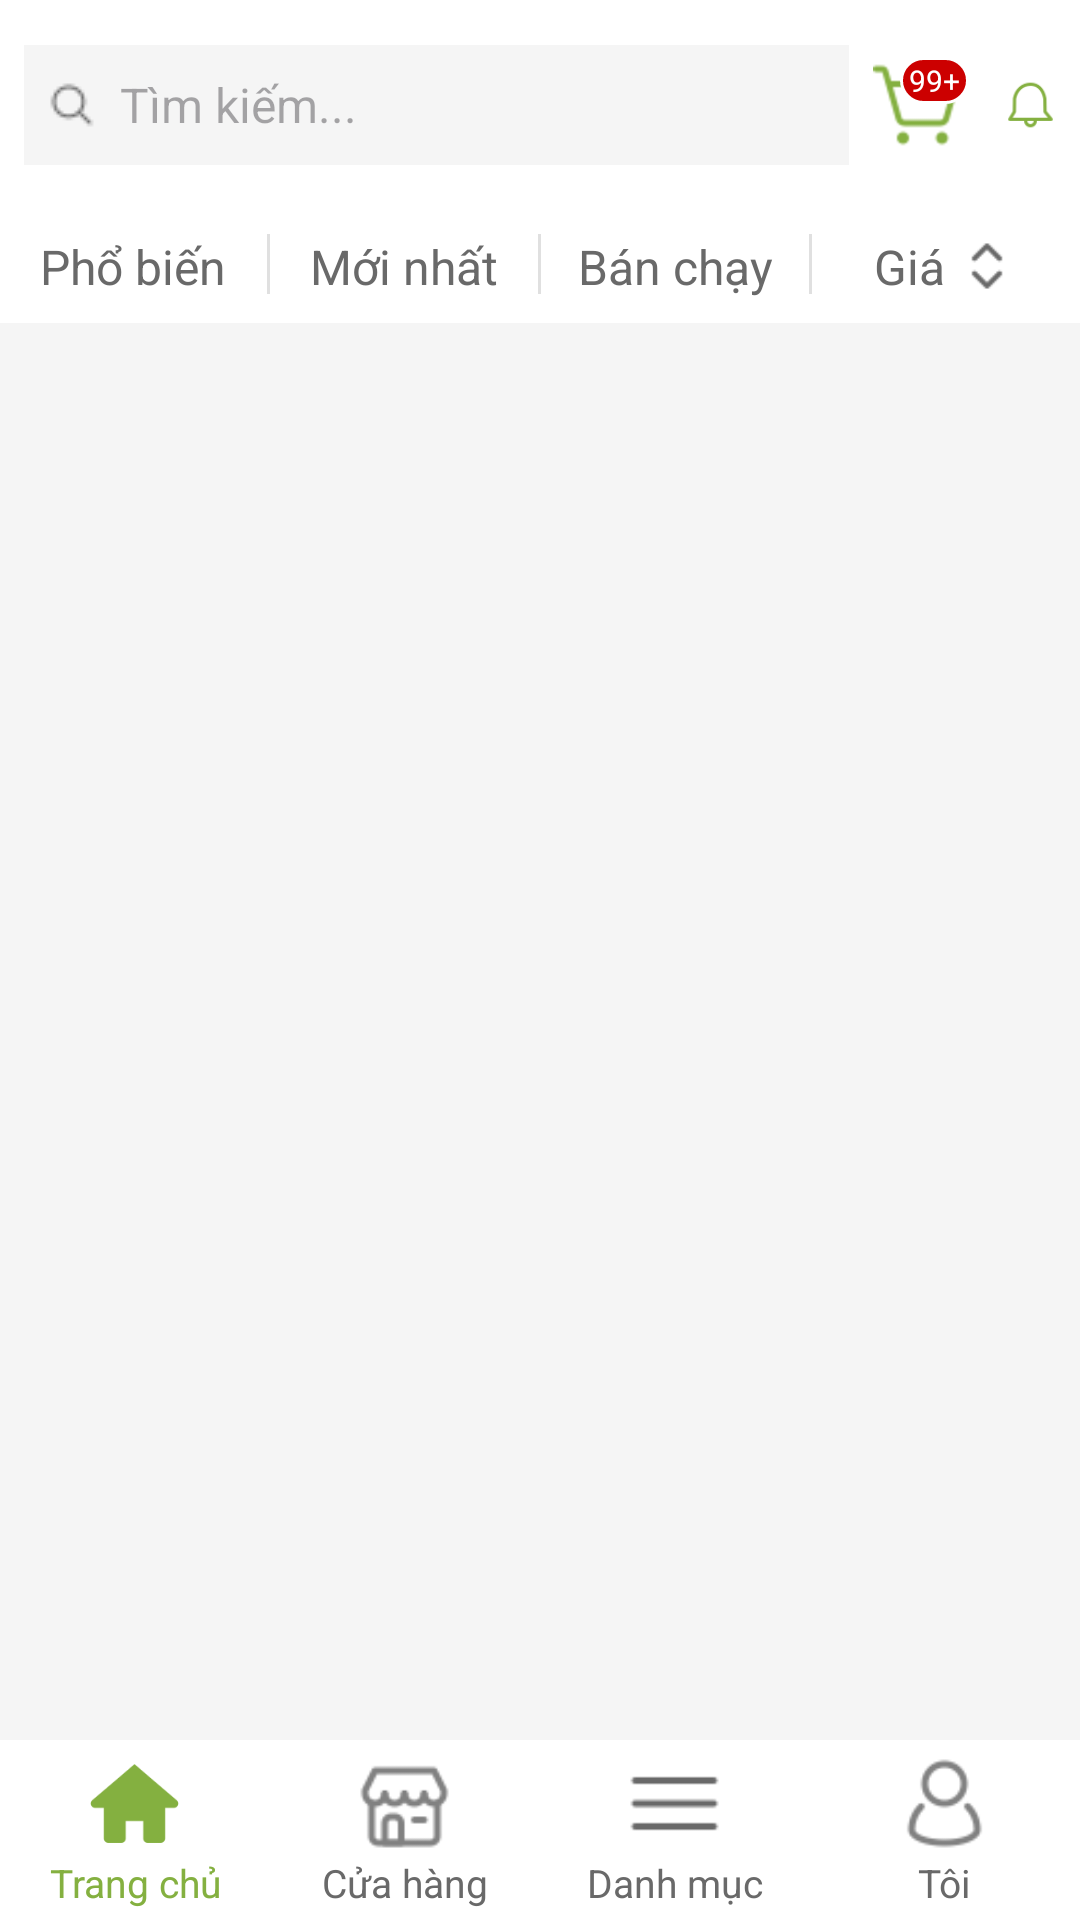

Named icons in this screenshot (1080 x 1920) and their bounding boxes, (x1, y1, x2, y2):
cart: (873, 60, 966, 145)
notification: (1008, 82, 1053, 128)
Sắp xếp: (971, 243, 1003, 289)
